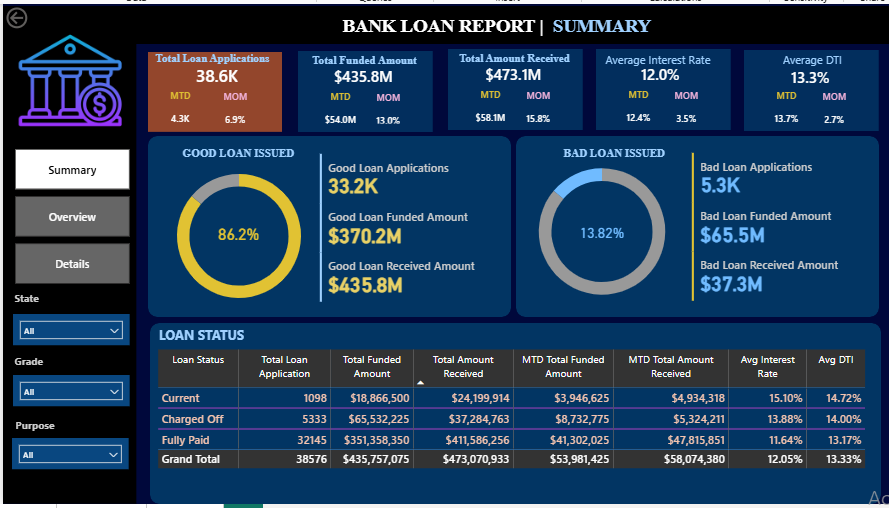

Layout of this report page (visuals, bound fields, positions):
{"tool":"powerbi","page":{"name":"Summary","canvas":[1280,720],"ordinal":0},"visuals":[{"type":"shape","box":[0,57.6,192,662.4],"z":0},{"type":"shape","box":[640.5,64.8,194.4,116.6],"z":0,"group":"g3"},{"type":"shape","box":[853.9,64.8,194.4,116.6],"z":0,"group":"g4"},{"type":"shape","box":[1067.4,66.2,194.4,116.6],"z":0,"group":"g5"},{"type":"shape","box":[425.1,67.7,194.4,116.6],"z":0,"group":"g2"},{"type":"shape","box":[208.6,69.2,193,115.3],"z":0,"group":"g1"},{"type":"cardVisual","fields":{"Data":["financial_loan.Total Amount Received"]},"box":[641.2,67.5,185.8,63.4],"z":1000,"group":"g3"},{"type":"cardVisual","fields":{"Data":["financial_loan.Avg Interest Rate"]},"box":[854.5,67.5,185.8,63.4],"z":1000,"group":"g4"},{"type":"cardVisual","fields":{"Data":["financial_loan.Total Funded Amount"]},"box":[425.8,70.4,185.8,63.4],"z":1000,"group":"g2"},{"type":"cardVisual","fields":{"Data":["financial_loan.Avg DTI"]},"box":[1069.7,72.1,185.8,63.4],"z":1000,"group":"g5"},{"type":"cardVisual","fields":{"Data":["financial_loan.Total Loan Application"]},"box":[215,73,184.3,56.2],"z":1000,"group":"g1"},{"type":"shape","box":[211.7,459.4,1052.6,260.6],"z":1000},{"type":"cardVisual","title":"MTD","fields":{"Data":["financial_loan.MTD Total Amount Received"]},"box":[645.7,120.8,111,66],"z":2000,"group":"g3"},{"type":"cardVisual","title":"MTD","fields":{"Data":["financial_loan.MTD Avg Int Rate"]},"box":[859.1,120.8,111,66],"z":2000,"group":"g4"},{"type":"cardVisual","title":"MTD","fields":{"Data":["financial_loan.MTD Loan Application"]},"box":[208.6,121.8,93.6,66.2],"z":2000,"group":"g1"},{"type":"cardVisual","title":"MTD","fields":{"Data":["financial_loan.MTD Avg DTI"]},"box":[1072.6,122.2,111,66],"z":2000,"group":"g5"},{"type":"cardVisual","title":"MTD","fields":{"Data":["financial_loan.MTD Funded Amount"]},"box":[430.3,123.7,111,66],"z":2000,"group":"g2"},{"type":"shape","box":[738.7,190.1,522.7,260.6],"z":2000},{"type":"cardVisual","title":"MOM","fields":{"Data":["financial_loan.MOM Total Amount Received"]},"box":[724.4,121.9,93.6,66],"z":3000,"group":"g3"},{"type":"cardVisual","title":"MOM","fields":{"Data":["financial_loan.MOM Avg Int Rate"]},"box":[937.8,121.9,93.6,66],"z":3000,"group":"g4"},{"type":"cardVisual","title":"MOM","fields":{"Data":["financial_loan.MOM Avg DTI"]},"box":[1151.3,123.3,93.6,66],"z":3000,"group":"g5"},{"type":"cardVisual","title":"MOM","fields":{"Data":["financial_loan.MOM Loan Application"]},"box":[287,123.4,93.6,66.2],"z":3000,"group":"g1"},{"type":"cardVisual","title":"MOM","fields":{"Data":["financial_loan.MOM Funded Amount"]},"box":[509,124.8,93.6,64.8],"z":3000,"group":"g2"},{"type":"donutChart","fields":{"Category":["financial_loan.Good vs Bad Loan"],"Y":["financial_loan.Total Loan Application"]},"box":[740.2,208.8,244.8,237.6],"z":3000},{"type":"textbox","box":[196.6,64.5,208.8,31.7],"z":4000,"group":"g1"},{"type":"textbox","box":[637.3,65.1,197.3,29.2],"z":4000,"group":"g3"},{"type":"textbox","box":[421.9,68,197.3,29.2],"z":4000,"group":"g2"},{"type":"shape","box":[208.8,190.1,522.7,260.6],"z":4000},{"type":"cardVisual","fields":{"Data":["financial_loan.Bad Loan %"]},"box":[799.2,296.6,126.7,63.4],"z":5000},{"type":"donutChart","fields":{"Category":["financial_loan.Good vs Bad Loan"],"Y":["financial_loan.Total Loan Application"]},"box":[214.6,217.4,250.6,233.3],"z":6000},{"type":"cardVisual","fields":{"Data":["financial_loan.Good Loan %"]},"box":[279.4,302.4,119.5,57.6],"z":7000},{"type":"shape","box":[0,2.9,1280.2,54.7],"z":8000},{"type":"textbox","box":[234.7,201.6,208.8,31.7],"z":9000},{"type":"textbox","box":[483.8,11.5,472.3,46.1],"z":10000},{"type":"group","id":"g1","title":"Group 1","box":[196.6,64.5,208.8,125.1],"z":11000},{"type":"group","id":"g2","title":"Group 1","box":[421.9,67.7,197.3,122.4],"z":12000},{"type":"group","id":"g3","title":"Group 1","box":[637.3,64.8,197.3,123.8],"z":13000},{"type":"group","id":"g4","title":"Group 1","box":[853.9,64.8,194.4,123.8],"z":14000},{"type":"group","id":"g5","title":"Group 1","box":[1067.4,66.2,194.4,123.1],"z":15000},{"type":"textbox","box":[853.9,64.8,178.6,33.1],"z":16000},{"type":"textbox","box":[1069.9,64.8,191.5,34.6],"z":17000},{"type":"textbox","box":[776.2,201.6,208.8,31.7],"z":18000},{"type":"cardVisual","fields":{"Data":["financial_loan.Good Loan Application","financial_loan.Good Loan Funded Amount","financial_loan.Good Loan Received Amount"]},"box":[439.2,198.7,280.8,247.7],"z":19000},{"type":"cardVisual","fields":{"Data":["financial_loan.Bad Loan Applications","financial_loan.Bad Loan Funded Amount","financial_loan.Bad Loan Received Amount"]},"box":[974.9,197.3,280.8,247.7],"z":20000},{"type":"tableEx","fields":{"Values":["financial_loan.loan_status","financial_loan.Total Loan Application","financial_loan.Total Funded Amount","financial_loan.Total Amount Received","financial_loan.MTD Total Funded Amount","financial_loan.MTD Total Amount Received","financial_loan.Avg Interest Rate","financial_loan.Avg DTI"]},"box":[217.4,492.5,1038.2,217.4],"z":21000},{"type":"actionButton","box":[0,0,100,40],"z":22000},{"type":"textbox","box":[203,459.4,165.6,38.9],"z":23000},{"type":"slicer","fields":{"Values":["financial_loan.address_state"]},"box":[14.4,446.4,168.5,44.6],"z":24000},{"type":"textbox","box":[11.5,407.5,85,37.4],"z":25000},{"type":"slicer","fields":{"Values":["financial_loan.grade"]},"box":[14.4,534.2,168.5,44.6],"z":26000},{"type":"textbox","box":[11.5,498.2,85,37.4],"z":27000},{"type":"slicer","fields":{"Values":["financial_loan.purpose"]},"box":[13,625,168.5,44.6],"z":28000},{"type":"textbox","box":[13,590.4,85,37.4],"z":29000},{"type":"image","box":[18.7,11.5,155.5,197.3],"z":30000},{"type":"pageNavigator","box":[17.3,208.8,165.6,194.4],"z":31000}]}

Visuals, with their boxes in screenshot pixels (x1, y1, x2, y2), scaled from the page's 1280x720 canvas onto the 889x508 screenshot:
shape: region(0, 41, 133, 507)
shape: region(445, 46, 580, 128)
shape: region(593, 46, 728, 128)
shape: region(741, 47, 876, 129)
shape: region(295, 48, 430, 130)
shape: region(145, 49, 279, 130)
cardVisual - financial_loan.Total Amount Received: region(445, 48, 574, 92)
cardVisual - financial_loan.Avg Interest Rate: region(593, 48, 723, 92)
cardVisual - financial_loan.Total Funded Amount: region(296, 50, 425, 94)
cardVisual - financial_loan.Avg DTI: region(743, 51, 872, 96)
cardVisual - financial_loan.Total Loan Application: region(149, 52, 277, 91)
shape: region(147, 324, 878, 507)
"MTD" cardVisual: region(448, 85, 526, 132)
"MTD" cardVisual: region(597, 85, 674, 132)
"MTD" cardVisual: region(145, 86, 210, 133)
"MTD" cardVisual: region(745, 86, 822, 133)
"MTD" cardVisual: region(299, 87, 376, 134)
shape: region(513, 134, 876, 318)
"MOM" cardVisual: region(503, 86, 568, 133)
"MOM" cardVisual: region(651, 86, 716, 133)
"MOM" cardVisual: region(800, 87, 865, 134)
"MOM" cardVisual: region(199, 87, 264, 134)
"MOM" cardVisual: region(354, 88, 419, 134)
donutChart - financial_loan.Good vs Bad Loan x financial_loan.Total Loan Application: region(514, 147, 684, 315)
textbox: region(137, 46, 282, 68)
textbox: region(443, 46, 580, 67)
textbox: region(293, 48, 430, 69)
shape: region(145, 134, 508, 318)
cardVisual - financial_loan.Bad Loan %: region(555, 209, 643, 254)
donutChart - financial_loan.Good vs Bad Loan x financial_loan.Total Loan Application: region(149, 153, 323, 318)
cardVisual - financial_loan.Good Loan %: region(194, 213, 277, 254)
shape: region(0, 2, 888, 41)
textbox: region(163, 142, 308, 165)
textbox: region(336, 8, 664, 41)
"Group 1" group: region(137, 46, 282, 134)
"Group 1" group: region(293, 48, 430, 134)
"Group 1" group: region(443, 46, 580, 133)
"Group 1" group: region(593, 46, 728, 133)
"Group 1" group: region(741, 47, 876, 134)
textbox: region(593, 46, 717, 69)
textbox: region(743, 46, 876, 70)
textbox: region(539, 142, 684, 165)
cardVisual - financial_loan.Good Loan Application x financial_loan.Good Loan Funded Amount: region(305, 140, 500, 315)
cardVisual - financial_loan.Bad Loan Applications x financial_loan.Bad Loan Funded Amount: region(677, 139, 872, 314)
tableEx - financial_loan.loan_status x financial_loan.Total Loan Application: region(151, 347, 872, 501)
actionButton: region(0, 0, 69, 28)
textbox: region(141, 324, 256, 352)
slicer - financial_loan.address_state: region(10, 315, 127, 346)
textbox: region(8, 288, 67, 314)
slicer - financial_loan.grade: region(10, 377, 127, 408)
textbox: region(8, 352, 67, 378)
slicer - financial_loan.purpose: region(9, 441, 126, 472)
textbox: region(9, 417, 68, 443)
image: region(13, 8, 121, 147)
pageNavigator: region(12, 147, 127, 284)
